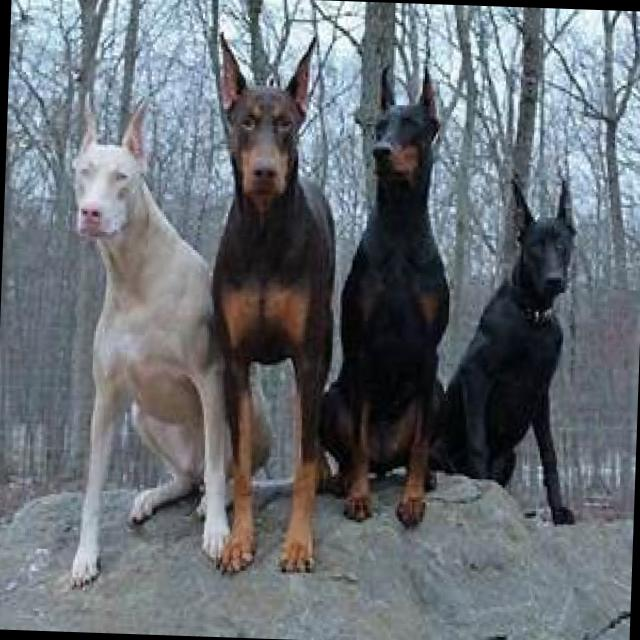dog: (52, 96, 282, 591), (192, 28, 339, 578), (317, 57, 457, 526), (432, 170, 587, 520)
